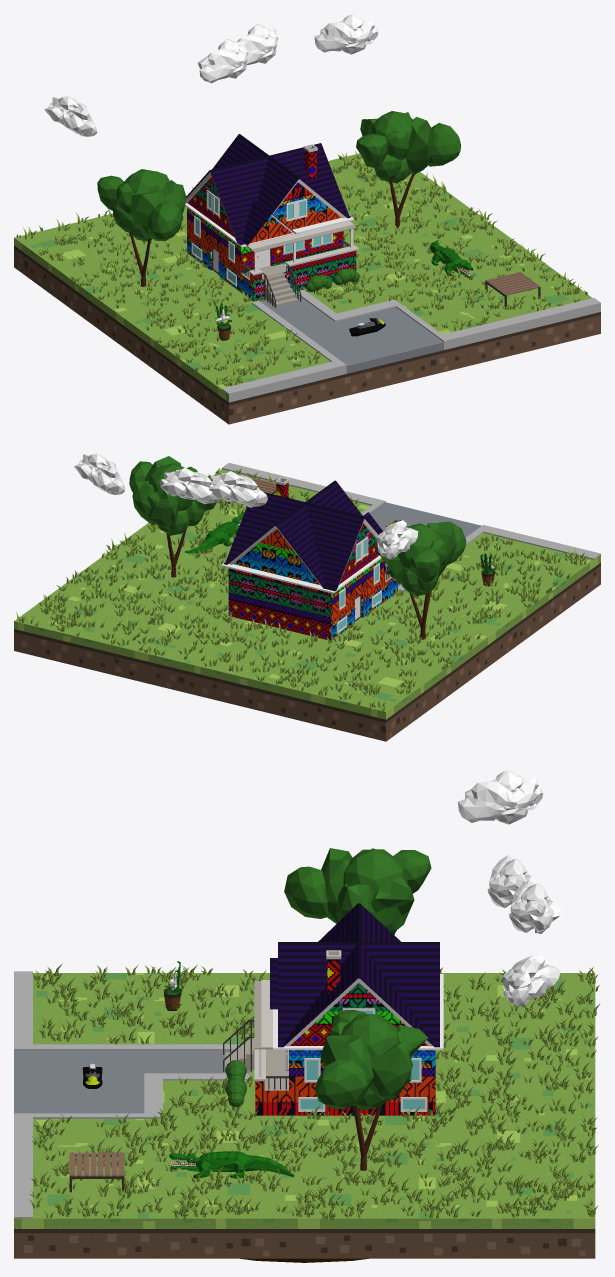
3 views of the same model, one above another, from view 1: azimuth 30°, elevation 25°; view 2: azimuth 150°, elevation 25°; view 3: azimuth 270°, elevation 25° (orthographic). The views are drawn at different scales.
Parts seen in each view (by area): view 1: Cube.006, Cube.966, Circle.012_Grass_0.192, Cube.007, tree, tree.001, Cube.009, ANIMAL_COCODRILO; view 2: Cube.006, Cube.966, Circle.012_Grass_0.192, Cube.007, tree.001, tree, ANIMAL_COCODRILO; view 3: Cube.006, Circle.012_Grass_0.192, Cube.966, tree, Cube.007, tree.001, ANIMAL_COCODRILO, Cube.009.
Part boxes in pixels (left/top/right/bottom): Cube.006: left=14, top=153, right=600, bottom=424; Cube.966: left=185, top=134, right=358, bottom=307; Circle.012_Grass_0.192: left=16, top=151, right=587, bottom=386; Cube.007: left=44, top=14, right=378, bottom=136; tree: left=356, top=111, right=460, bottom=228; tree.001: left=97, top=169, right=186, bottom=286; Cube.009: left=485, top=272, right=540, bottom=306; ANIMAL_COCODRILO: left=430, top=240, right=472, bottom=278; Cube.006: left=14, top=463, right=600, bottom=741; Cube.966: left=221, top=477, right=397, bottom=640; Circle.012_Grass_0.192: left=16, top=468, right=587, bottom=711; Cube.007: left=74, top=453, right=418, bottom=559; tree.001: left=374, top=521, right=466, bottom=639; tree: left=129, top=456, right=216, bottom=577; ANIMAL_COCODRILO: left=185, top=512, right=244, bottom=553; Cube.006: left=14, top=971, right=595, bottom=1258; Circle.012_Grass_0.192: left=29, top=963, right=600, bottom=1219; Cube.966: left=223, top=903, right=443, bottom=1115; tree: left=314, top=1010, right=427, bottom=1170; Cube.007: left=457, top=770, right=560, bottom=1006; tree.001: left=284, top=848, right=431, bottom=934; ANIMAL_COCODRILO: left=169, top=1151, right=294, bottom=1178; Cube.009: left=69, top=1152, right=124, bottom=1192.
Bounding box in the file's own units: 4071 × 2242 × 4040.
39 materials, 7 textured.
